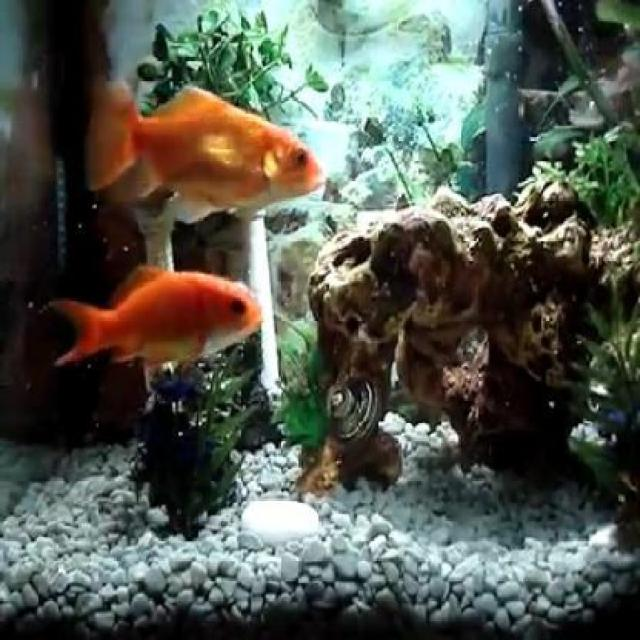GoldFish: (81, 80, 327, 225), (50, 266, 267, 377)
